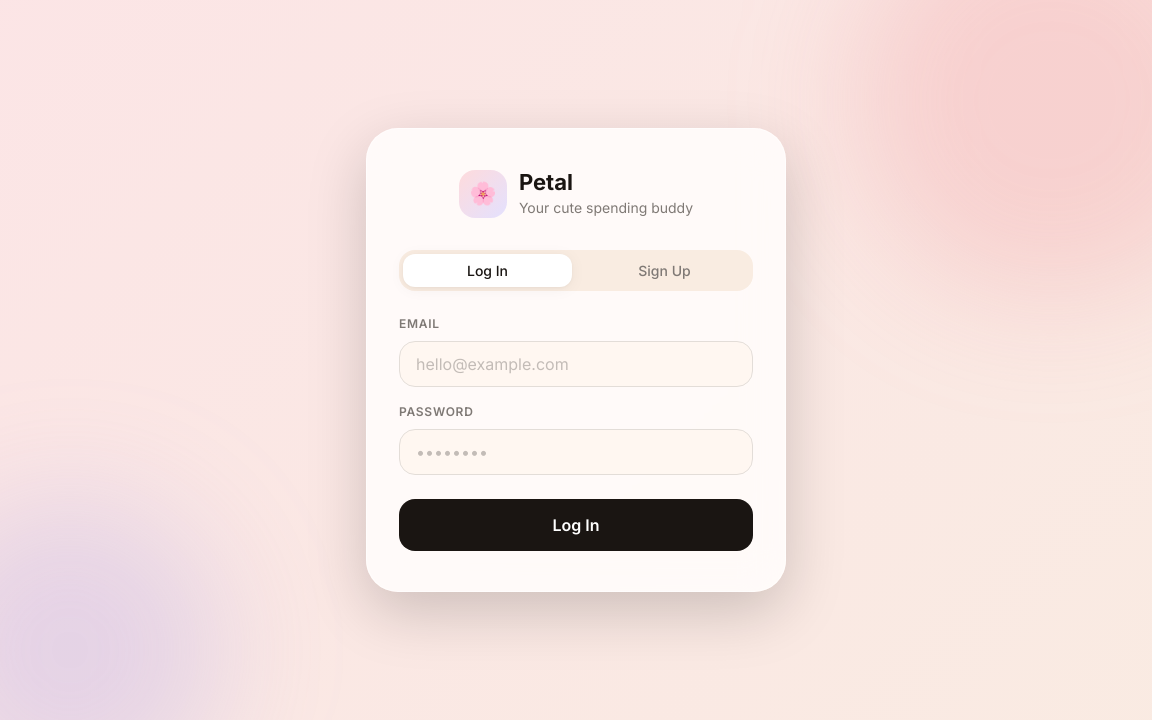
Test: AuthPage › shows error message on auth failure
In the field labelled "Email": (576, 364) [399,341,753,387], type "test@example.com"
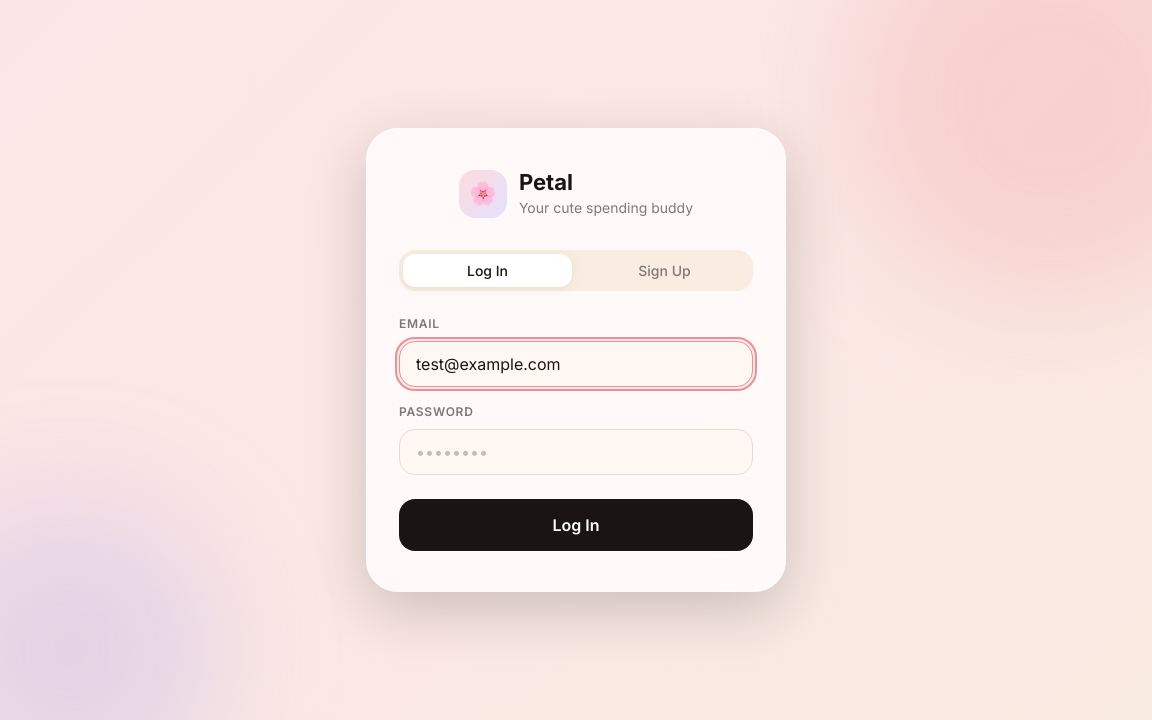
In the password field labelled "Password": (576, 452) [399,429,753,475], type "wrongpass"
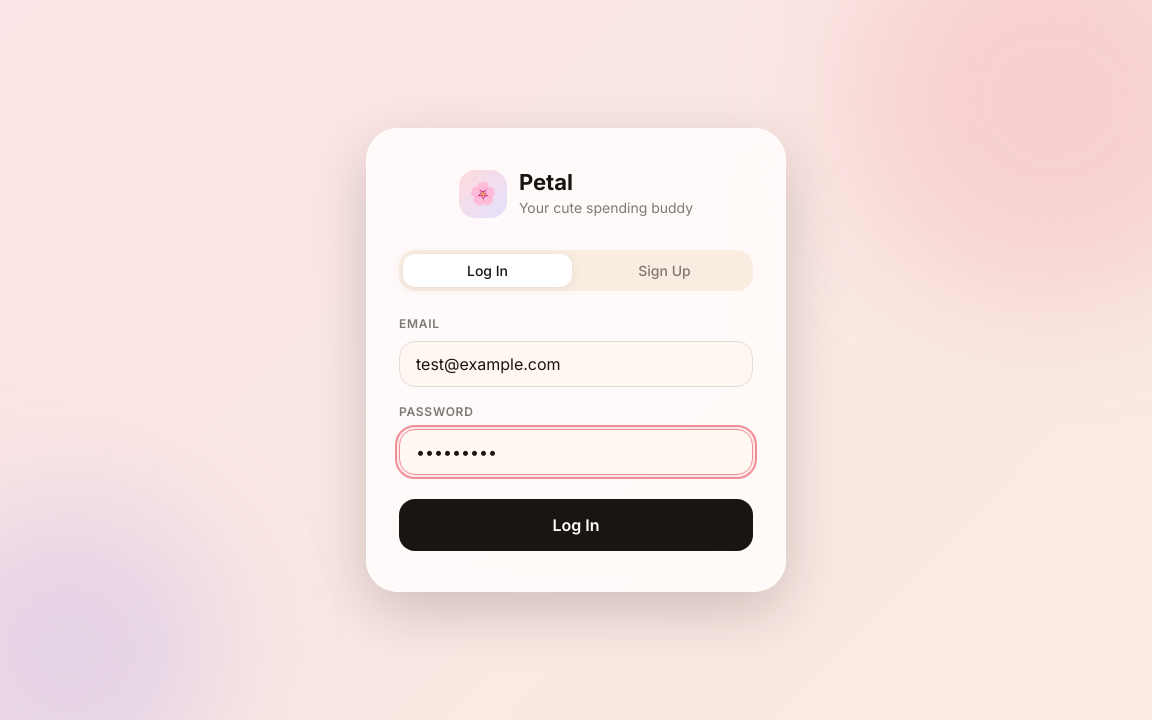
Click the button "Log In": (576, 525) [399,499,753,551]
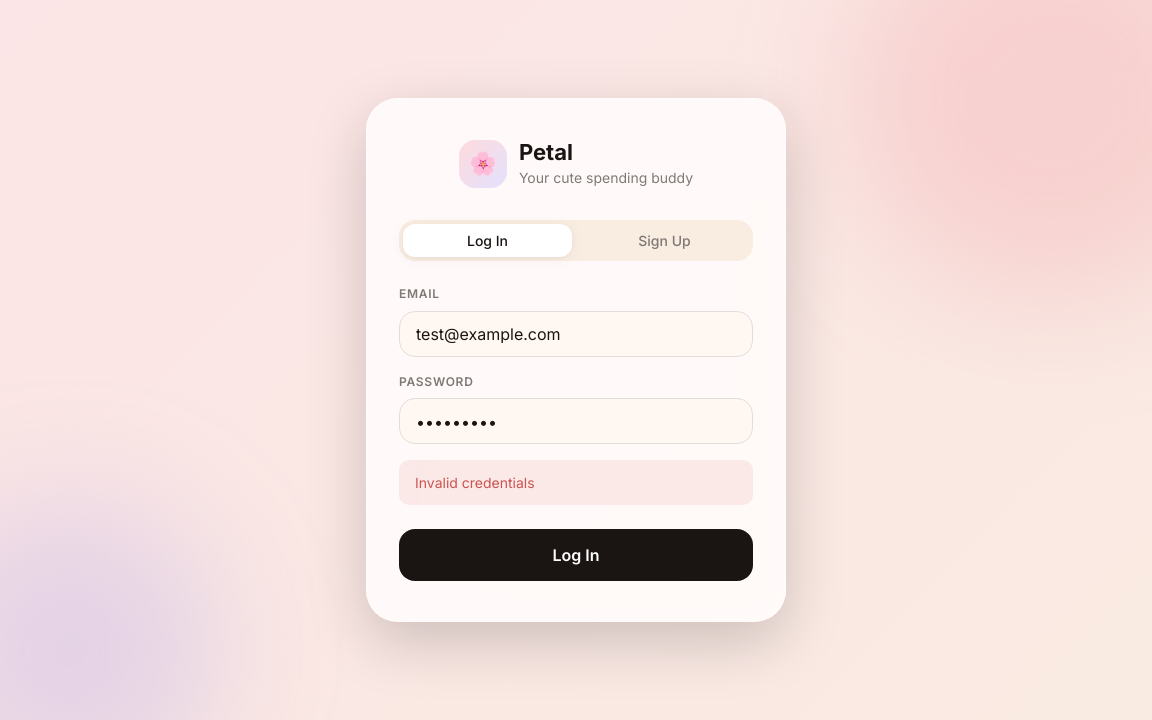
Now the message reads "Invalid credentials", box [415,474,535,491]
